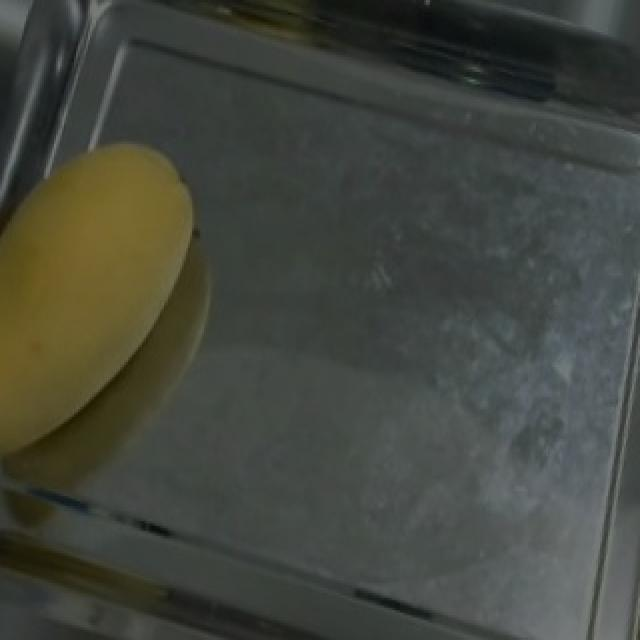fruit: (0, 104, 254, 472)
